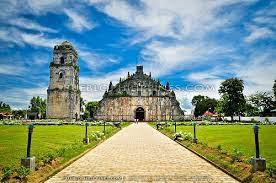Environmental Damage: (107, 92, 130, 98), (48, 61, 59, 69), (71, 64, 80, 71)
Paoay Church: (45, 40, 186, 122)
